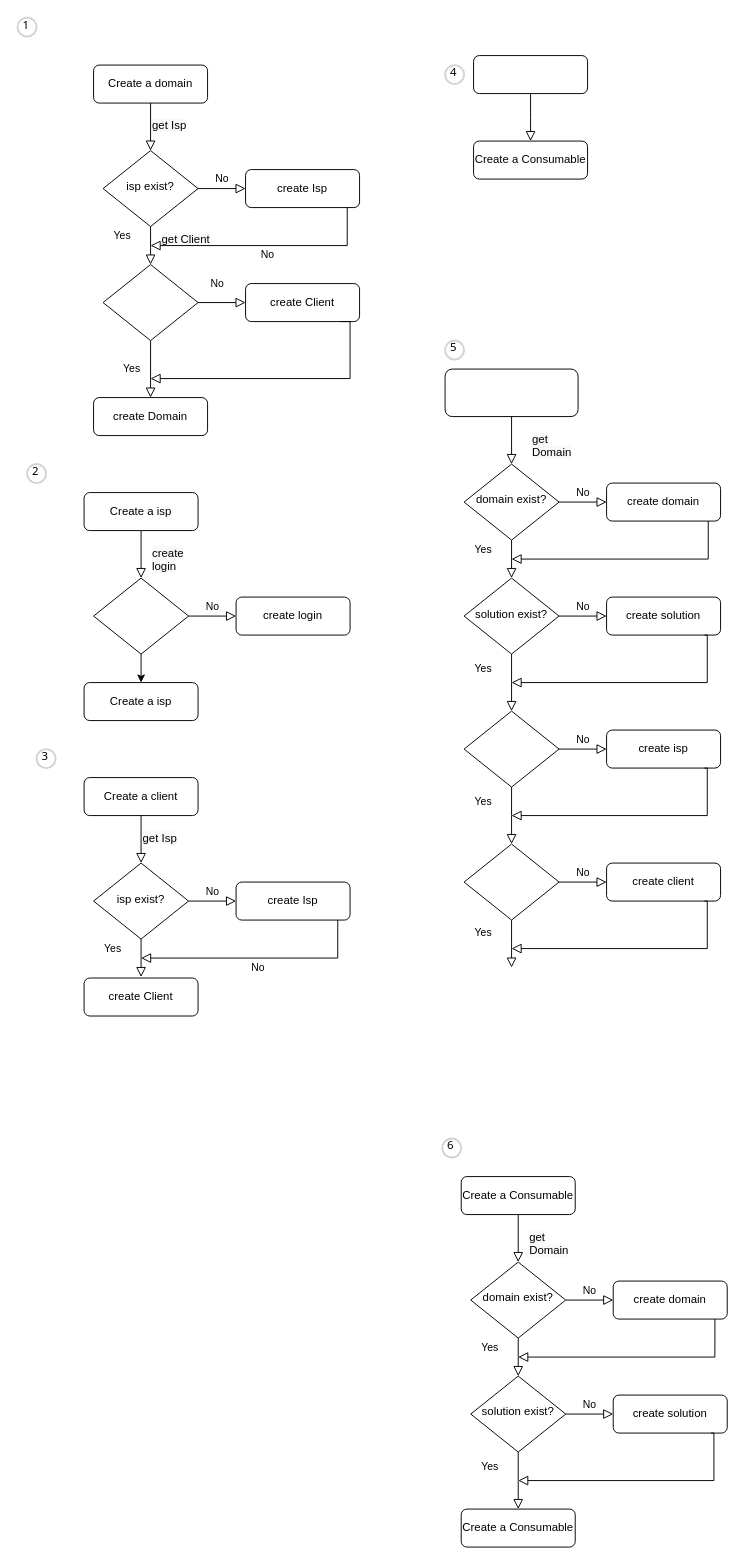
This 744x1564 diagram has some shape labels left out. The centre of each missing label's shape, as x and y in pixels:
"client exist" belongs at [511,881].
"client exist?" belongs at [150,302].
"Create a Solution" belongs at [530,74].
"Create a SolutionForDomainOrder" belongs at [511,392].
"isp exist" belongs at [511,748].
"login already exist?" belongs at [141,615].
